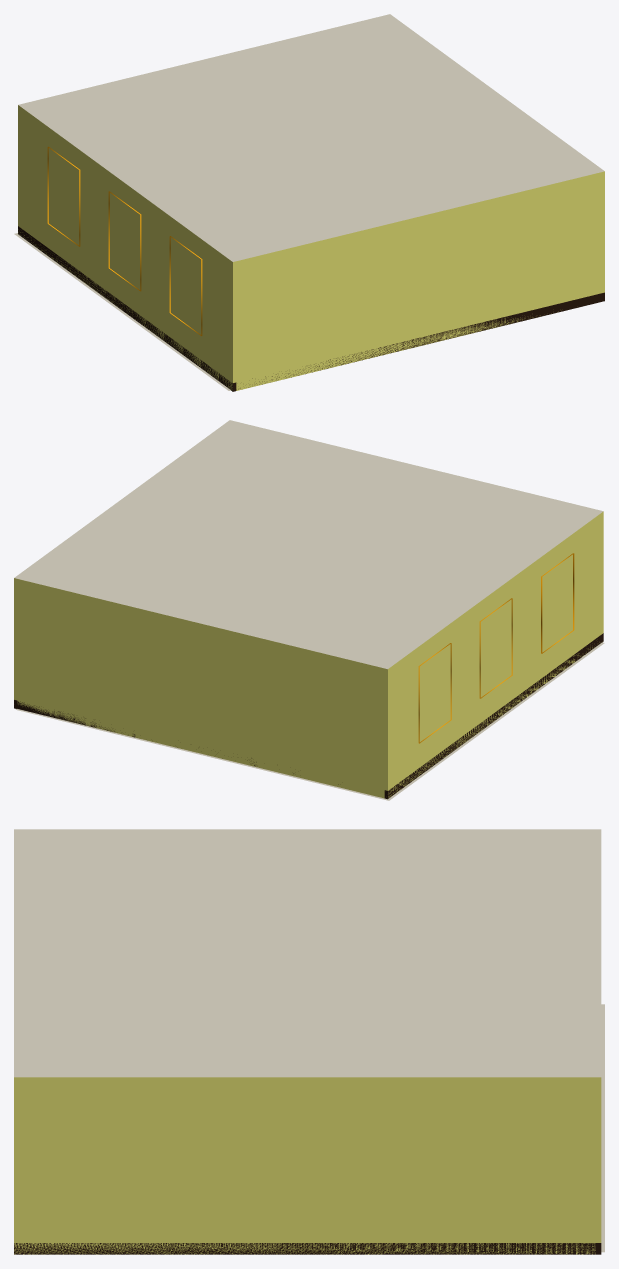
The model's file is museum.glb.
3 views of the same model, one above another, from view 1: azimuth 30°, elevation 25°; view 2: azimuth 150°, elevation 25°; view 3: azimuth 270°, elevation 25° (orthographic). The views are drawn at different scales.
Parts seen in each view (by area): view 1: Ceiling, WallLeft, WallFront, SBLeft, SBFront, Floor; view 2: Ceiling, WallRight, WallFront, SBFront, Floor; view 3: Ceiling, WallBack, SBBack, Floor.
Part boxes in pixels (x1,y1,x2,y2): Ceiling: (18, 14, 604, 261); WallLeft: (233, 171, 604, 390); WallFront: (18, 105, 232, 390); SBLeft: (231, 292, 604, 389); SBFront: (18, 226, 236, 391); Floor: (14, 233, 230, 390); Ceiling: (14, 420, 603, 669); WallRight: (14, 578, 387, 798); WallFront: (388, 511, 603, 797); SBFront: (384, 633, 603, 799); Floor: (15, 642, 604, 800); Ceiling: (14, 829, 601, 1077); WallBack: (14, 1077, 601, 1254); SBBack: (14, 1243, 595, 1254); Floor: (601, 1004, 604, 1252).
Bounding box in the file's own units: 18.13 × 6 × 18.12.
